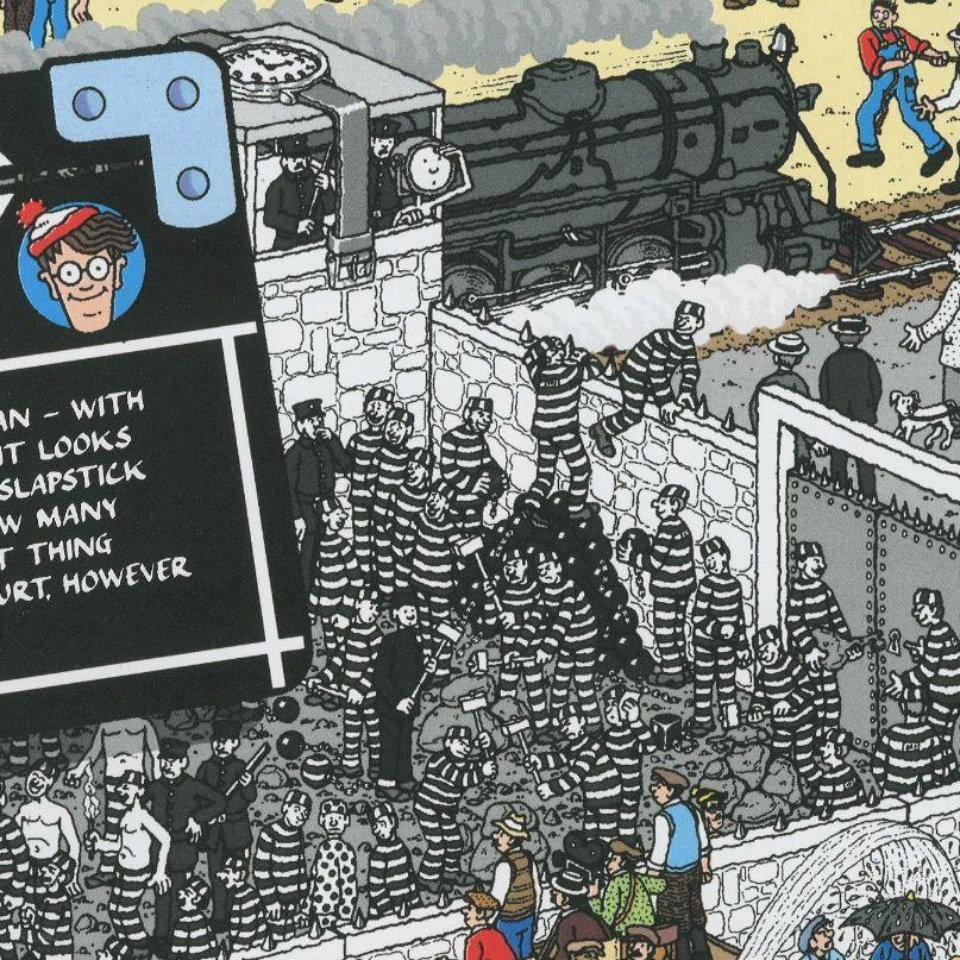waldo: (17, 200, 149, 333)
